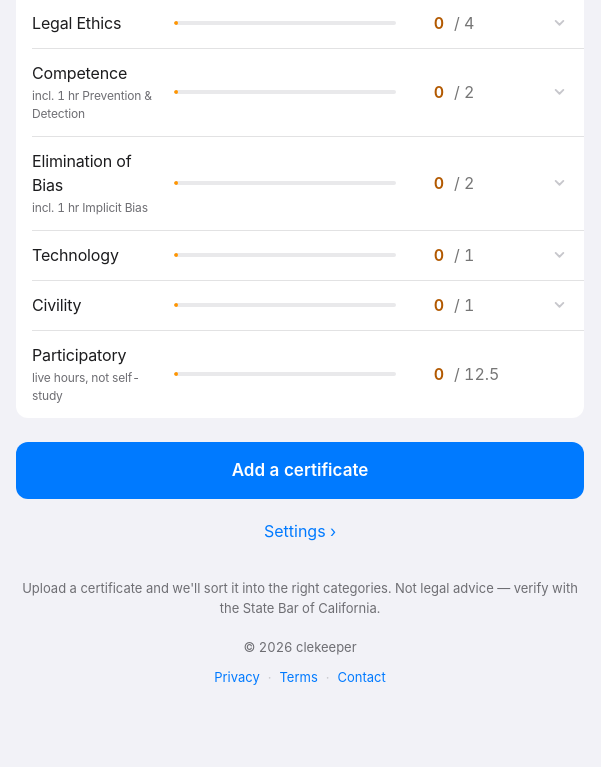
Test: opens the Settings menu from the dashboard gear (not straight to name-edit), and Edit name still works
(page scrolled)
Step 1. Click the button "Settings ›" → click(300, 531), box [258, 507, 342, 555]
(page scrolled)
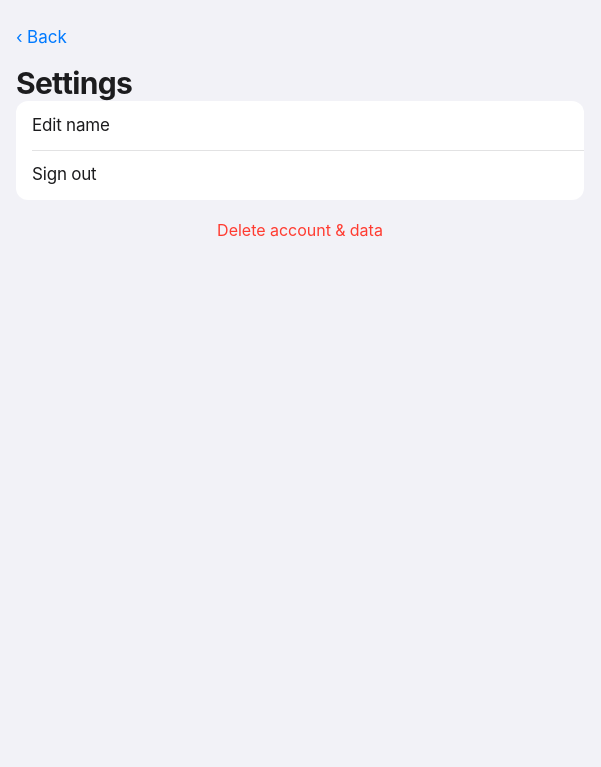
Expected: the field labelled "full name" is not shown
Now the heading "Settings" is shown, box [16, 65, 132, 101]
Step 2. Click the text "Edit name" → click(71, 125), box [32, 115, 110, 135]
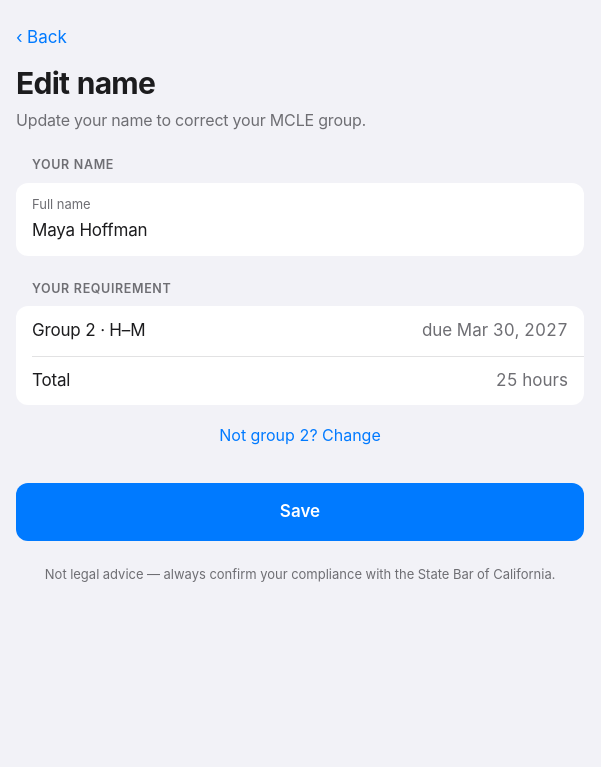
Now the heading "Edit name" is shown, box [16, 65, 155, 101]
Now the field labelled "Full name" holds "Maya Hoffman"
Step 3. Replace the text in the field labelled "Full name" with "Alice Adams" → (300, 231), box [32, 218, 568, 244]
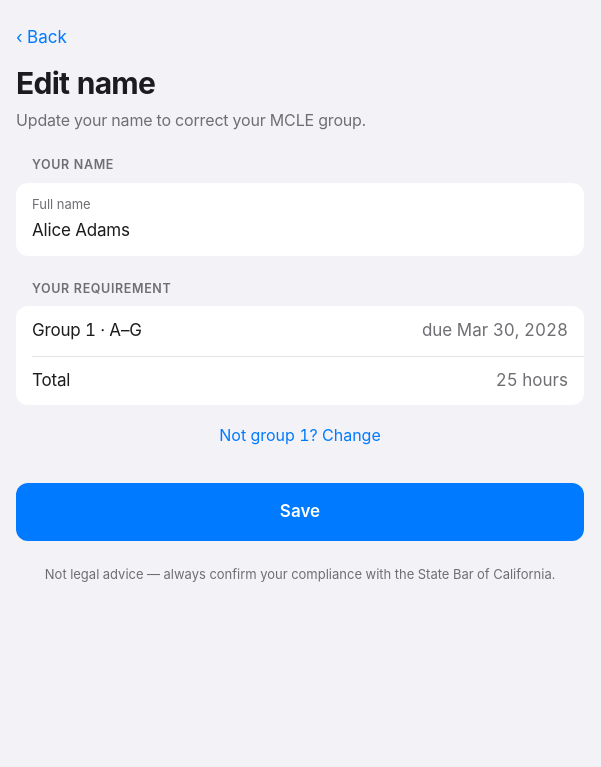
Step 4. Click the button "Save" → click(300, 512), box [16, 483, 584, 541]
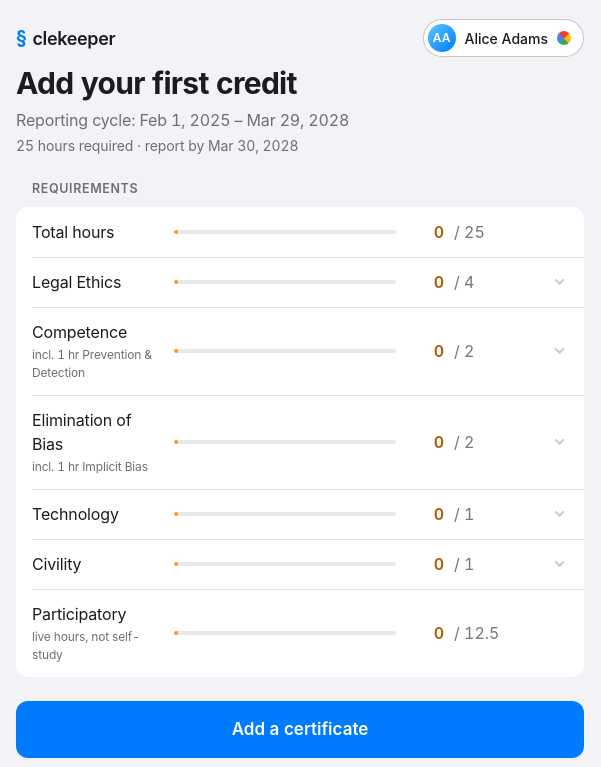
Now the text "Alice Adams" is shown, box [464, 28, 548, 48]
Now the heading "Edit name" is gone
